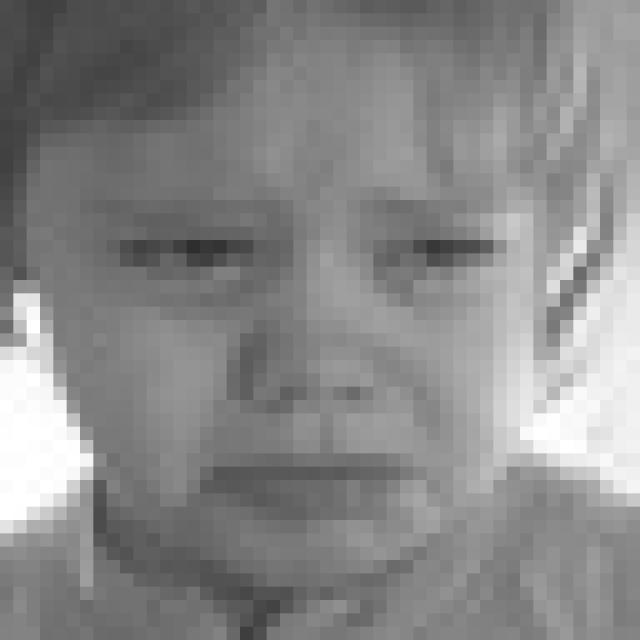sad: (113, 176, 523, 534)
